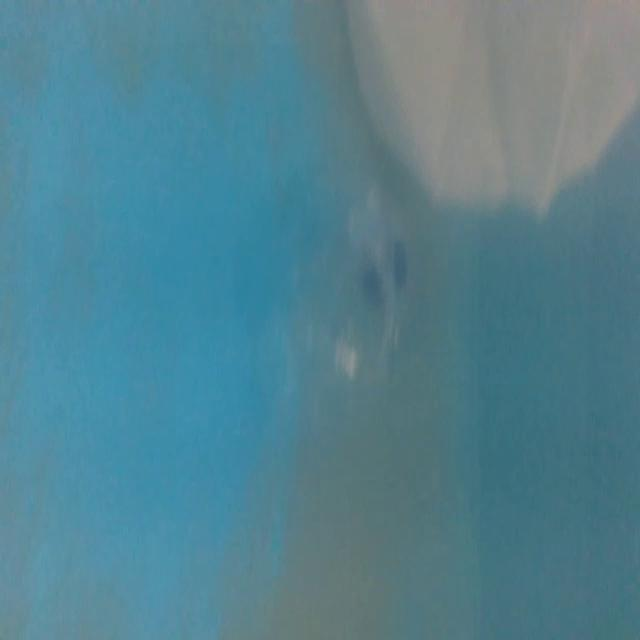plastic bags: (355, 0, 640, 232)
